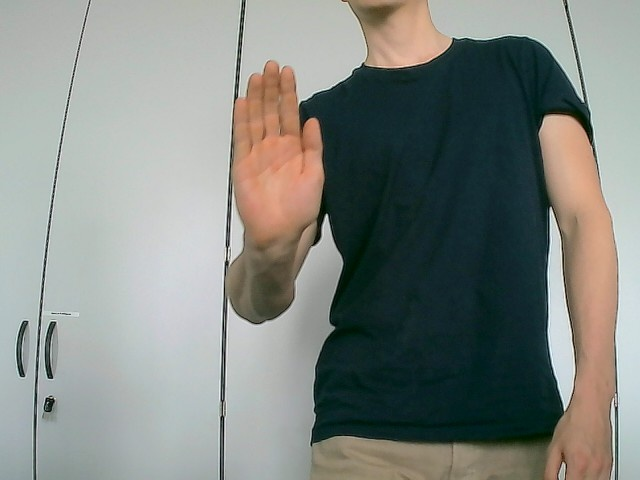stop: (230, 59, 327, 250)
